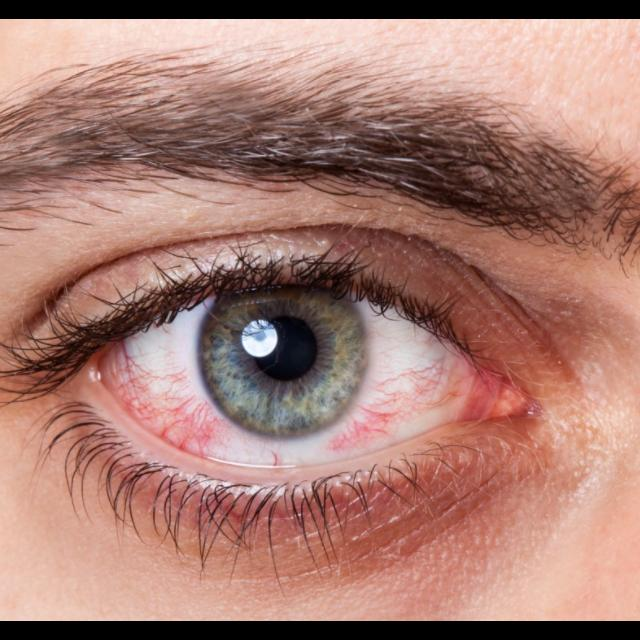eye: (115, 285, 470, 473)
iris: (198, 292, 369, 437)
